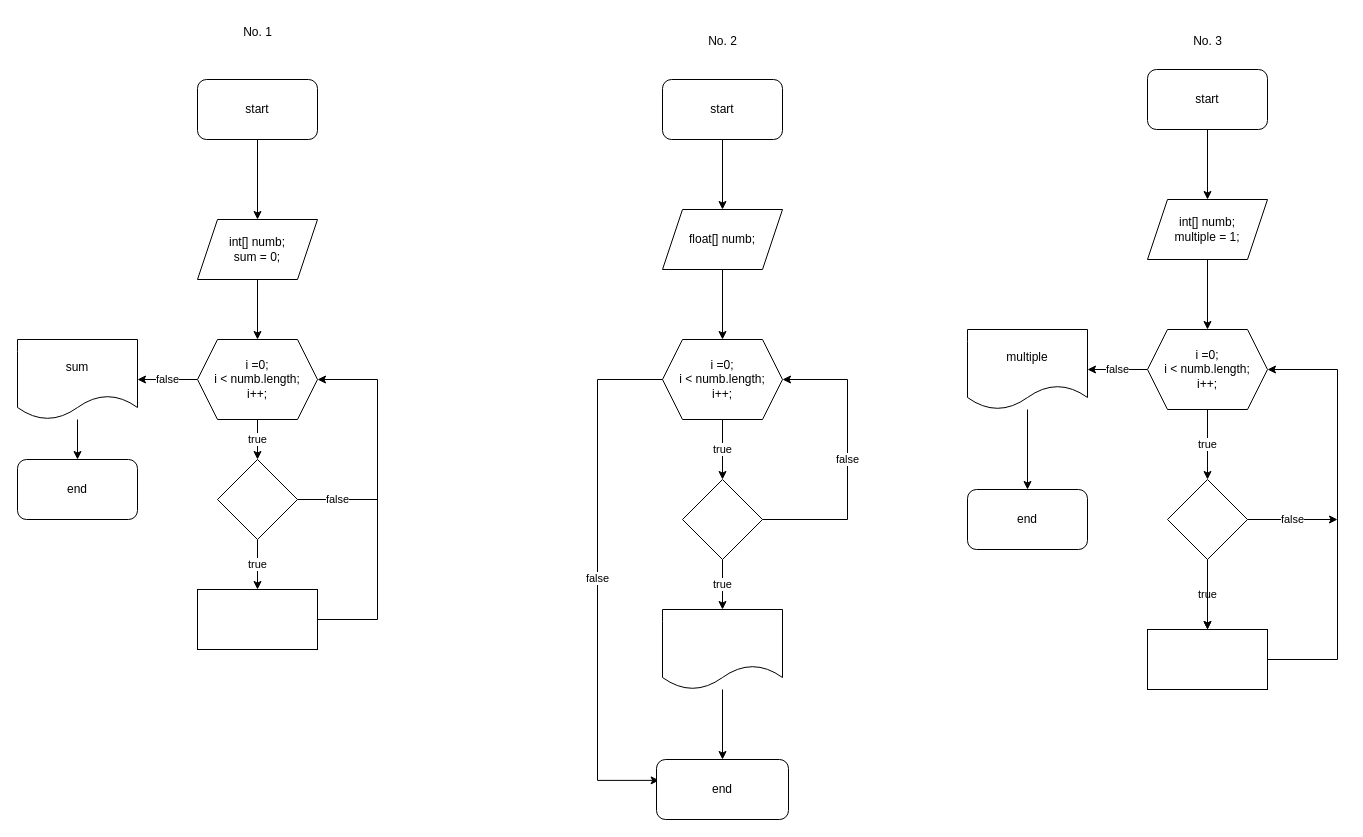
Image size: 1363x837. Some labels were removed from this diagram. The box of each missing label's shape, as (x1, y1, x2, y2) in pixels:
i >= 20: (1166, 478, 1248, 560)
i%2==0 || i%2==1: (682, 478, 762, 560)
i%2==0;: (216, 458, 298, 540)
is a complex number: (662, 608, 782, 690)
multiple *= numb[i]: (1146, 628, 1268, 690)
sum += numb[i]: (196, 588, 318, 650)
